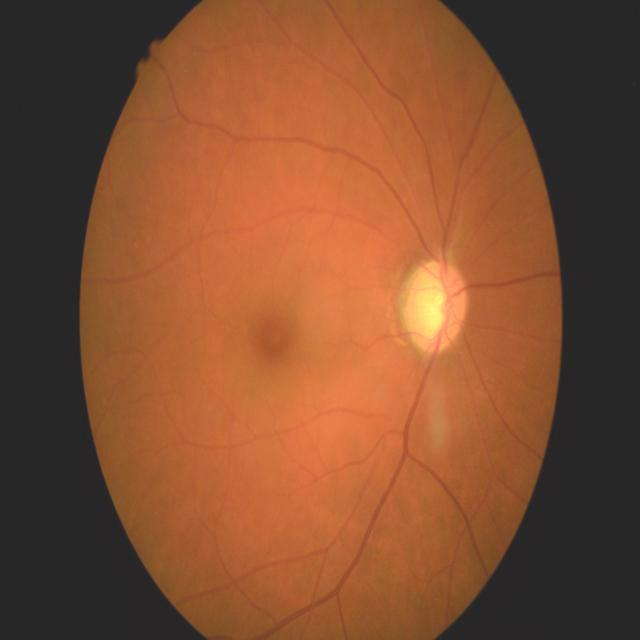cup: (420, 280, 450, 340)
disk: (403, 261, 469, 354)
